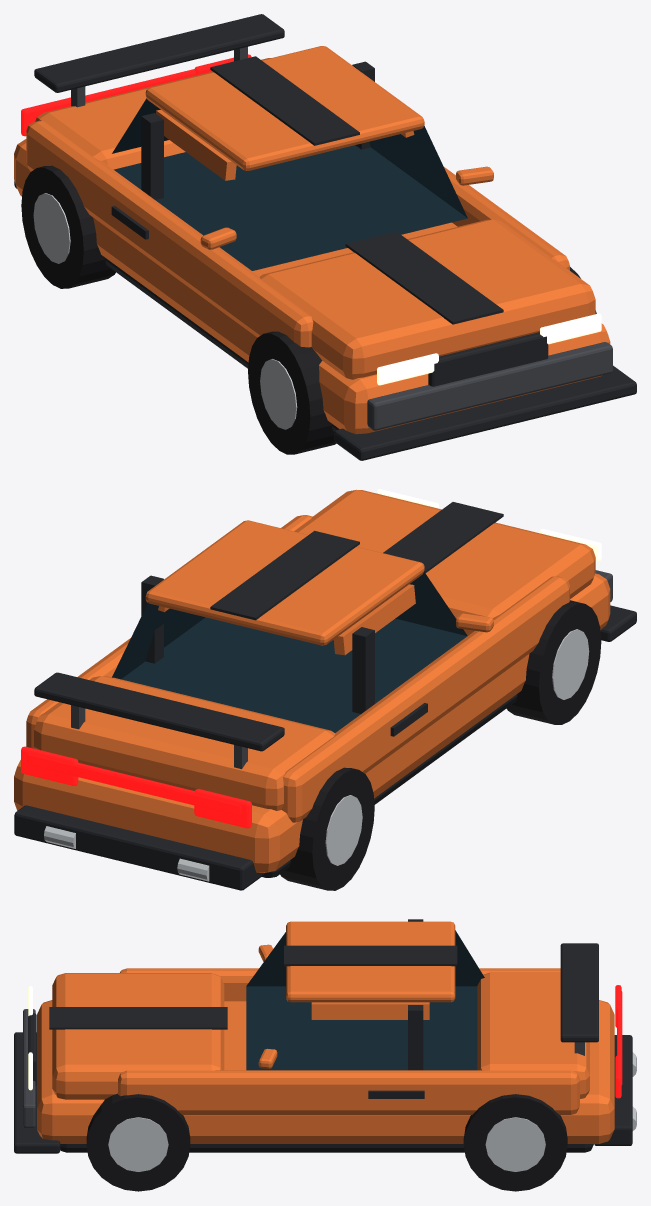
File: car.glb
The picture shows the model from 3 angles, top to bottom: view 1: azimuth 30°, elevation 25°; view 2: azimuth 150°, elevation 25°; view 3: azimuth 270°, elevation 25°; orthographic projection. The views are drawn at different scales.
Visible parts, largest first — view 1: Interceptor_Body, Wheel_FL, Wheel_RL; view 2: Interceptor_Body, Wheel_FL, Wheel_RL; view 3: Interceptor_Body, Wheel_FR, Wheel_RR.
Boxes of the visible parts, x1,y1,x2,y2 form: Interceptor_Body: [14, 14, 636, 460]; Wheel_FL: [248, 331, 336, 454]; Wheel_RL: [21, 165, 115, 288]; Interceptor_Body: [14, 489, 636, 890]; Wheel_FL: [506, 600, 601, 724]; Wheel_RL: [280, 767, 374, 890]; Interceptor_Body: [14, 919, 636, 1153]; Wheel_FR: [86, 1093, 190, 1191]; Wheel_RR: [463, 1094, 567, 1191].
Size of the model in its own units: 2.2 by 1.53 by 4.86.
